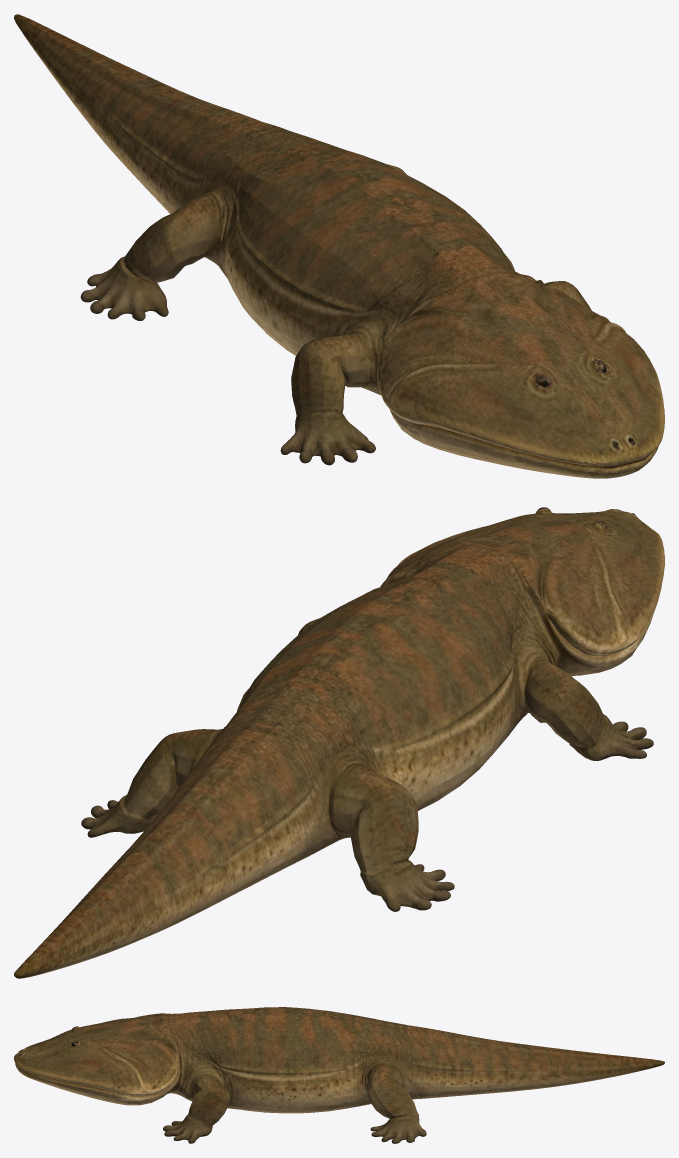
3 views of the same model, one above another, from view 1: azimuth 30°, elevation 25°; view 2: azimuth 150°, elevation 25°; view 3: azimuth 270°, elevation 25° (orthographic). The views are drawn at different scales.
Visible parts, largest first — view 1: Authored orientation; view 2: Authored orientation; view 3: Authored orientation.
Part boxes in pixels (x1=…): Authored orientation: x1=14, y1=14, x2=664, y2=478; Authored orientation: x1=14, y1=507, x2=664, y2=978; Authored orientation: x1=14, y1=1007, x2=664, y2=1143.
Bounding box in the file's own units: 0.6526 × 0.29 × 1.91.
Materials: 1 (1 with a texture image).
